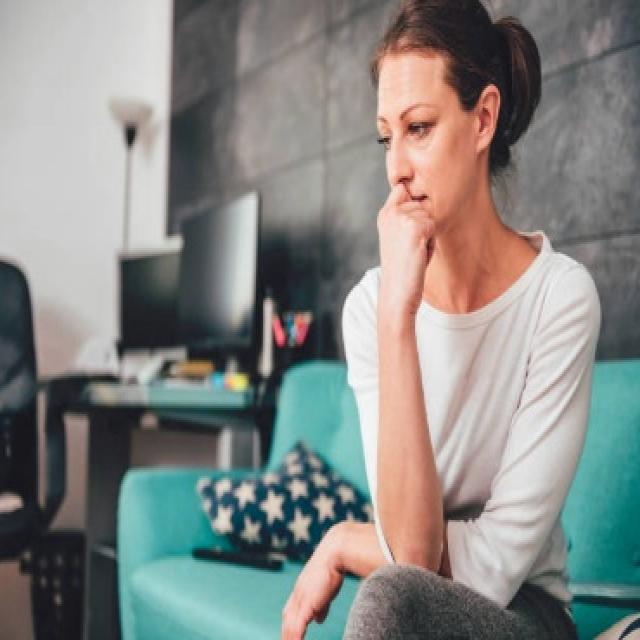adult: (271, 0, 591, 640)
